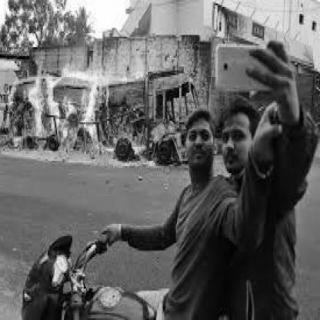Fire: (6, 50, 188, 158)
